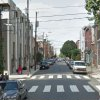crosswalk: (27, 84, 99, 92), (30, 74, 90, 79)
